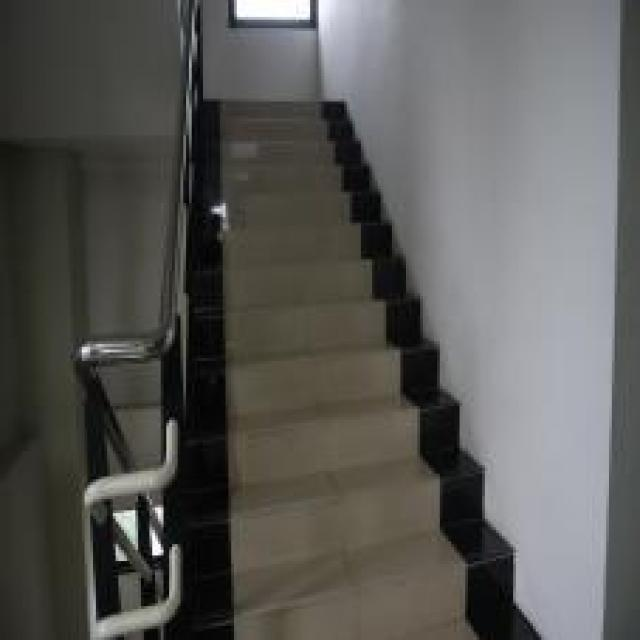upstair: (221, 80, 449, 638)
